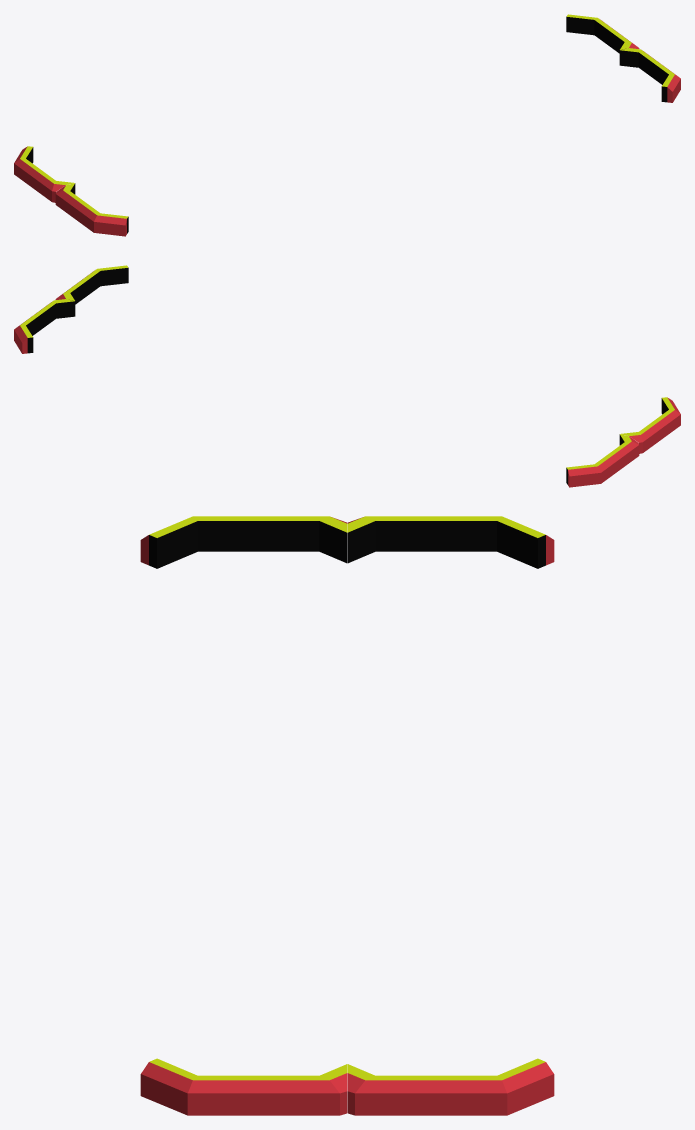
Rendered from reticleFBX.fbx.
3 views of the same model, one above another, from view 1: azimuth 30°, elevation 25°; view 2: azimuth 150°, elevation 25°; view 3: azimuth 270°, elevation 25° (orthographic). The views are drawn at different scales.
Visible parts, largest first — view 1: reticle; view 2: reticle; view 3: reticle.
Boxes of the visible parts, x1,y1,x2,y2 form: reticle: (14,14,680,236); reticle: (14,265,680,487); reticle: (140,516,554,1115).
Bounding box in the file's own units: 24.21 × 0.6064 × 7.38.
